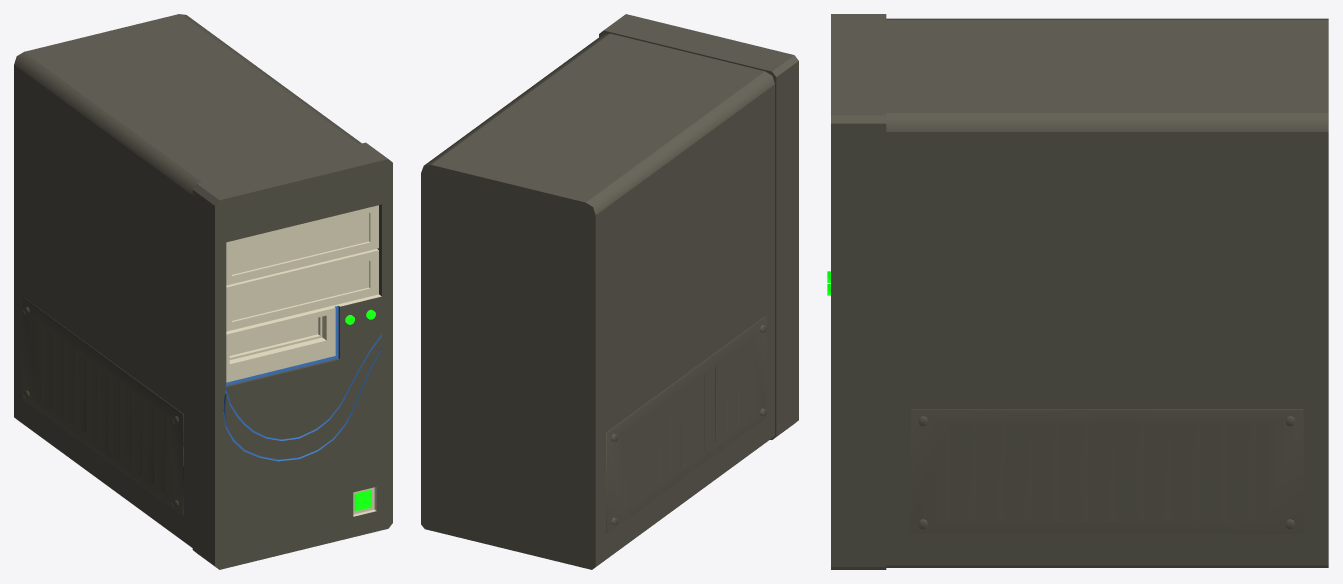
Rendered from workstation_tier8.fbx.
The picture shows the model from 3 angles, left to right: view 1: azimuth 30°, elevation 25°; view 2: azimuth 150°, elevation 25°; view 3: azimuth 270°, elevation 25°; orthographic projection. The views are drawn at different scales.
Visible parts, largest first — view 1: Cube, Cube.002; view 2: Cube, Cube.002; view 3: Cube, Cube.001.
Boxes of the visible parts, x1=… form: Cube: x1=14, y1=14, x2=392, y2=569; Cube.002: x1=22, y1=297, x2=183, y2=515; Cube: x1=421, y1=14, x2=798, y2=569; Cube.002: x1=606, y1=316, x2=766, y2=533; Cube: x1=831, y1=14, x2=1328, y2=569; Cube.001: x1=911, y1=409, x2=1303, y2=533.
Size of the model in its own units: 0.4505 by 0.8598 by 0.8597.
